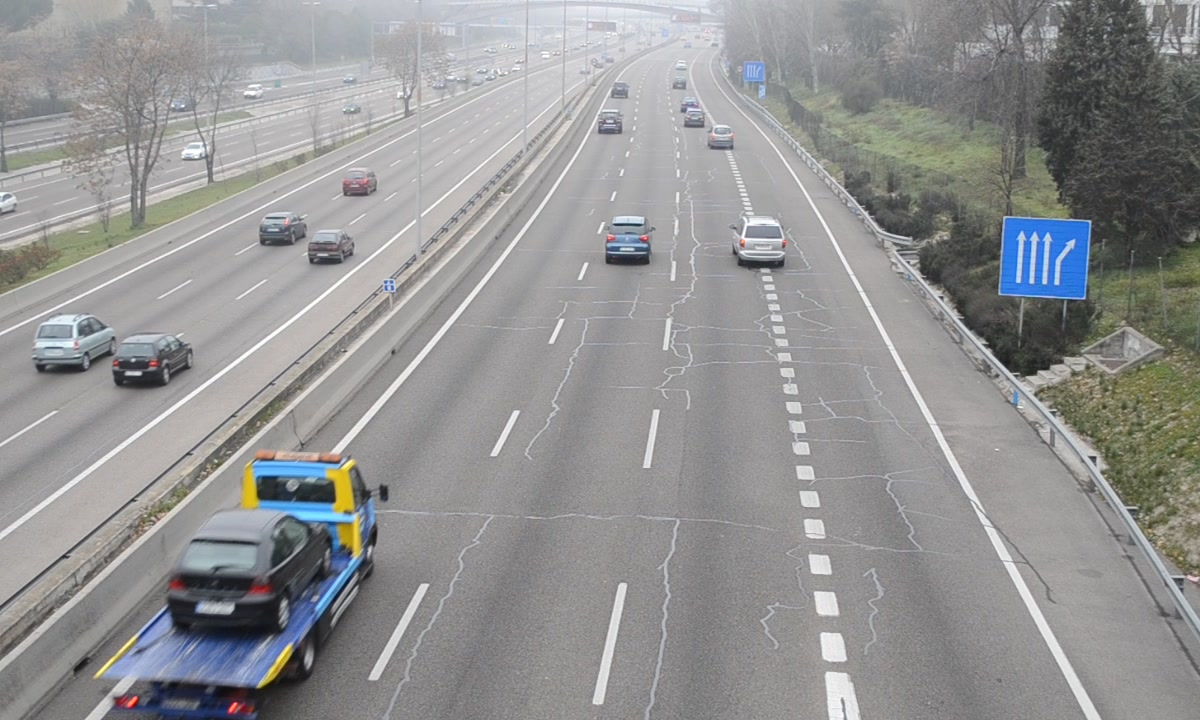car: (735, 218, 785, 265), (606, 216, 653, 262), (596, 108, 623, 137), (707, 124, 735, 151)
small-truck: (93, 453, 380, 720)
